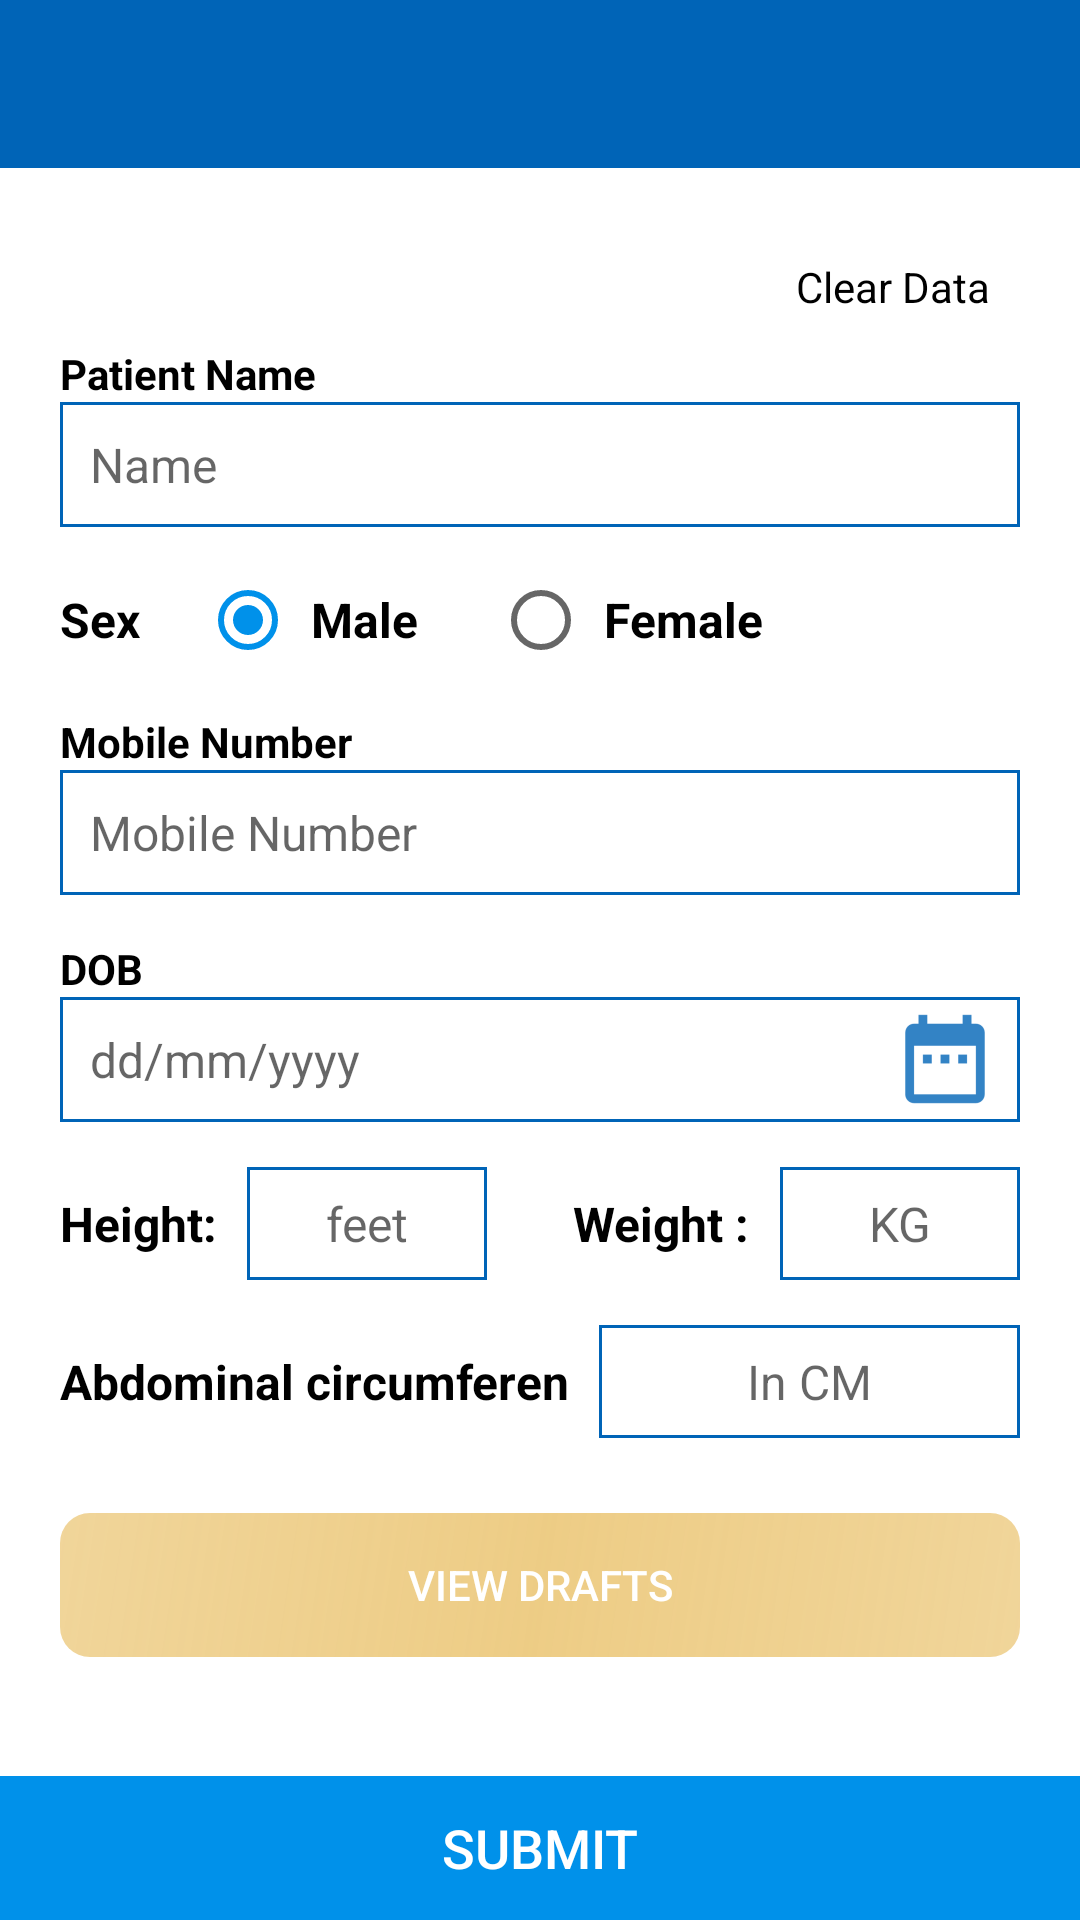

Icon bounding boxes for this 1080×1920 phone screenshot, format region(x1, y1, x2, y2):
date: region(905, 1014, 985, 1104)
